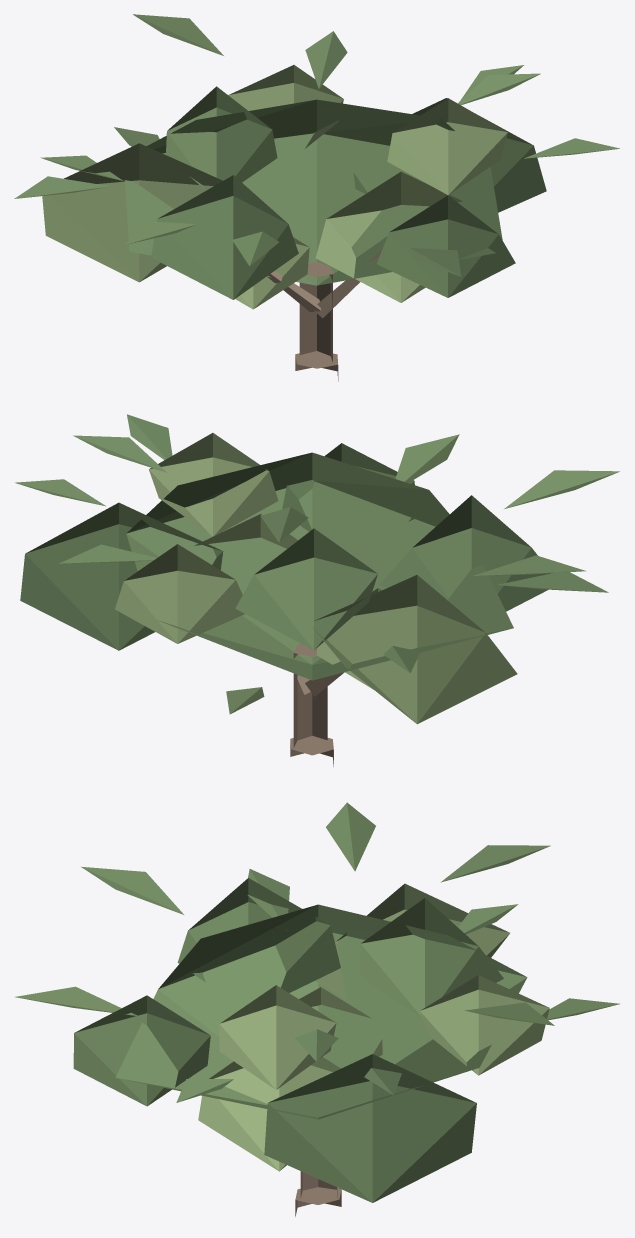
Rendered from shu.cha@subadult__summer.glb.
The picture shows the model from 3 angles, top to bottom: view 1: azimuth 30°, elevation 25°; view 2: azimuth 150°, elevation 25°; view 3: azimuth 270°, elevation 25°; orthographic projection. The views are drawn at different scales.
Parts seen in each view (by area): view 1: shu.cha@subadult__summer; view 2: shu.cha@subadult__summer; view 3: shu.cha@subadult__summer.
Part boxes in pixels (x1,y1,x2,y2): shu.cha@subadult__summer: (14, 14, 619, 381); shu.cha@subadult__summer: (15, 414, 619, 766); shu.cha@subadult__summer: (15, 802, 619, 1216).
Size of the model in its own units: 2.6 by 1.41 by 2.37.
